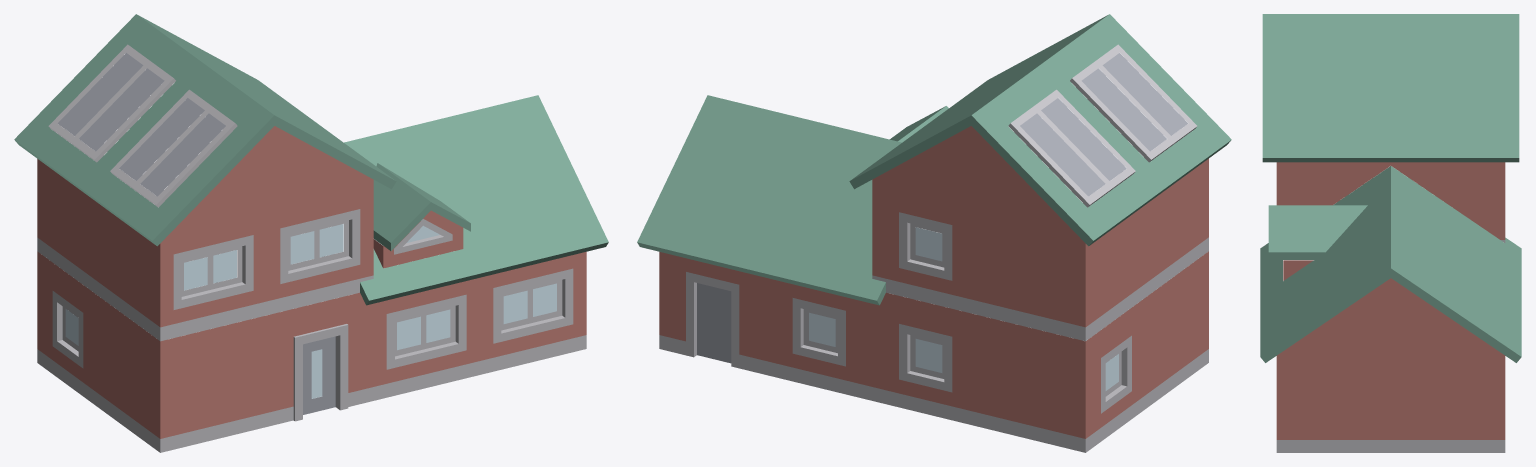
Rendered from house-3.glb.
The picture shows the model from 3 angles, left to right: view 1: azimuth 30°, elevation 25°; view 2: azimuth 150°, elevation 25°; view 3: azimuth 270°, elevation 25°; orthographic projection. The views are drawn at different scales.
Parts seen in each view (by area): view 1: house_type03; view 2: house_type03; view 3: house_type03.
Boxes of the visible parts, left/top/right/bottom form: house_type03: left=14, top=14, right=608, bottom=452; house_type03: left=637, top=14, right=1231, bottom=452; house_type03: left=1260, top=14, right=1521, bottom=452.
Size of the model in its own units: 1.71 by 1.14 by 0.9163.
Materials: 1 (1 with a texture image).
